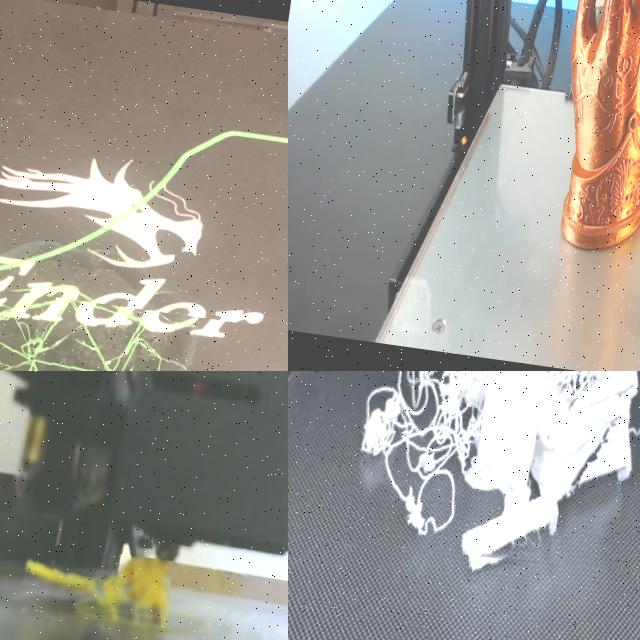spaghetti: (344, 371, 640, 589), (0, 281, 267, 371), (26, 557, 168, 619)
